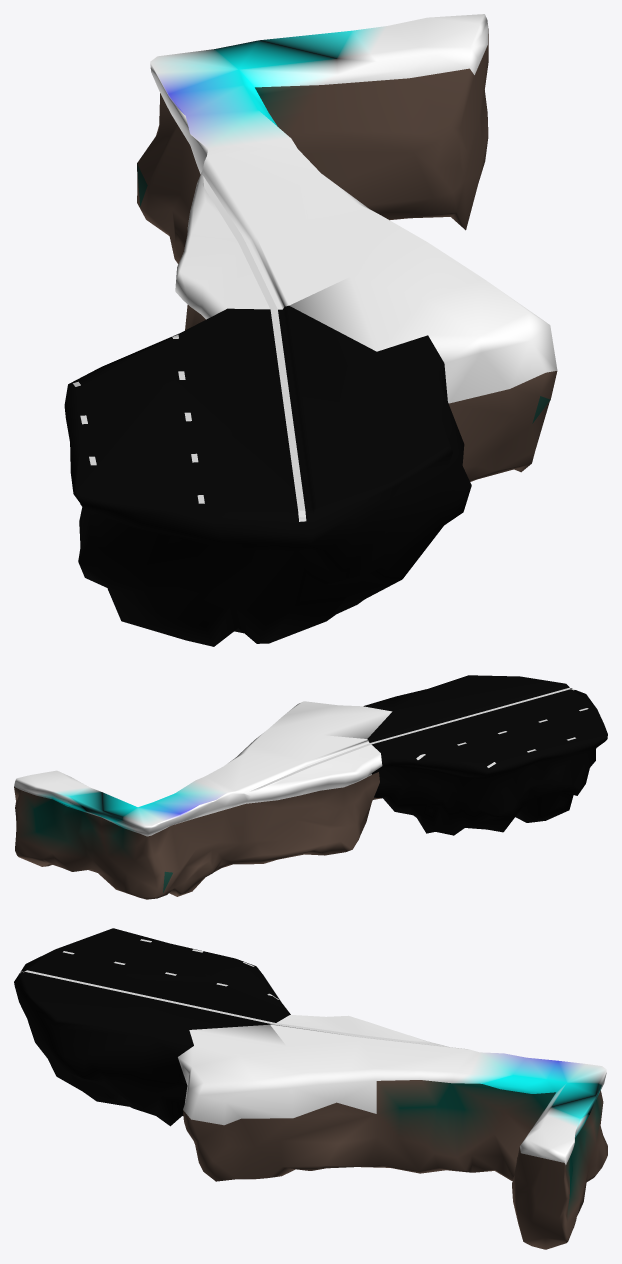
The model's file is Shell_Level1.fbx.
The picture shows the model from 3 angles, top to bottom: view 1: azimuth 30°, elevation 25°; view 2: azimuth 150°, elevation 25°; view 3: azimuth 270°, elevation 25°; orthographic projection. The views are drawn at different scales.
Parts seen in each view (by area): view 1: Level1, StreetMarkings; view 2: Level1, StreetMarkings; view 3: Level1, StreetMarkings.
Boxes of the visible parts, x1,y1,x2,y2 form: Level1: (64, 14, 557, 646); StreetMarkings: (73, 174, 306, 521); Level1: (14, 675, 607, 899); StreetMarkings: (249, 688, 588, 791); Level1: (14, 928, 607, 1249); StreetMarkings: (20, 939, 448, 1046).
Bounding box in the file's own units: 4862 × 1132 × 5357.
